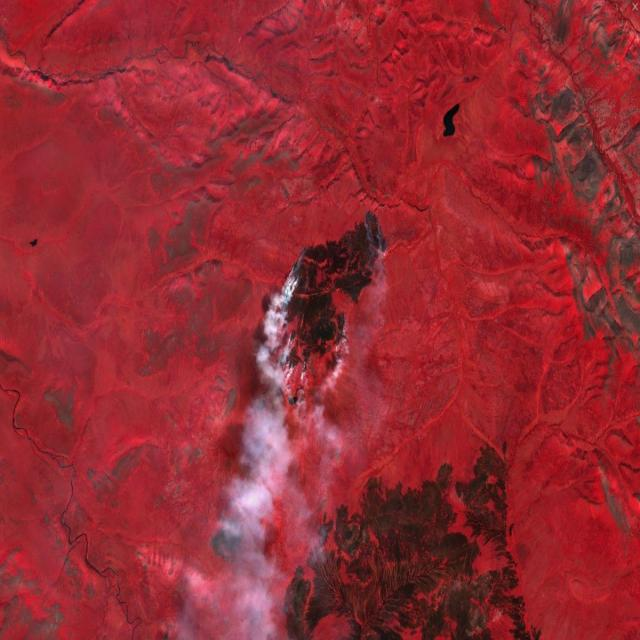fire: (269, 198, 389, 373)
